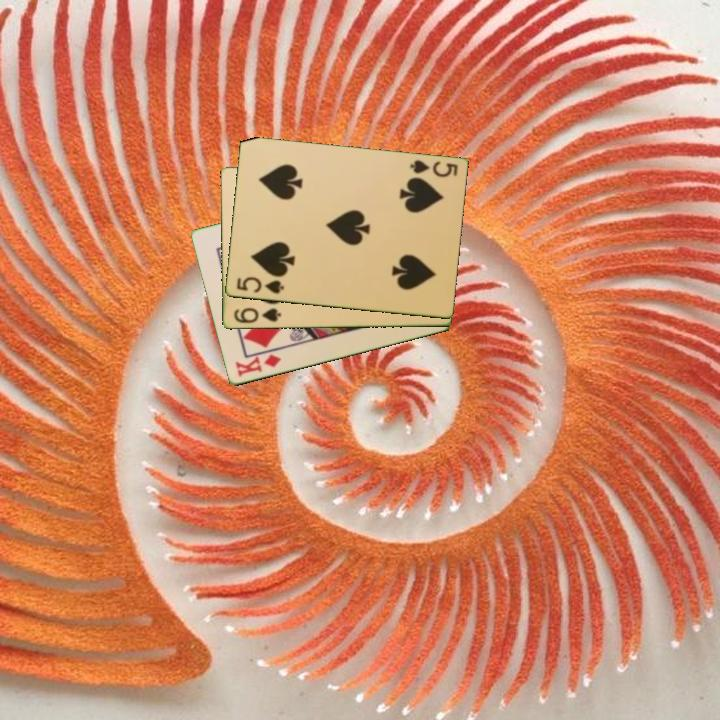5s: (233, 273, 287, 297), (406, 156, 460, 180)
6s: (230, 305, 284, 326)
Kd: (232, 351, 284, 380)
